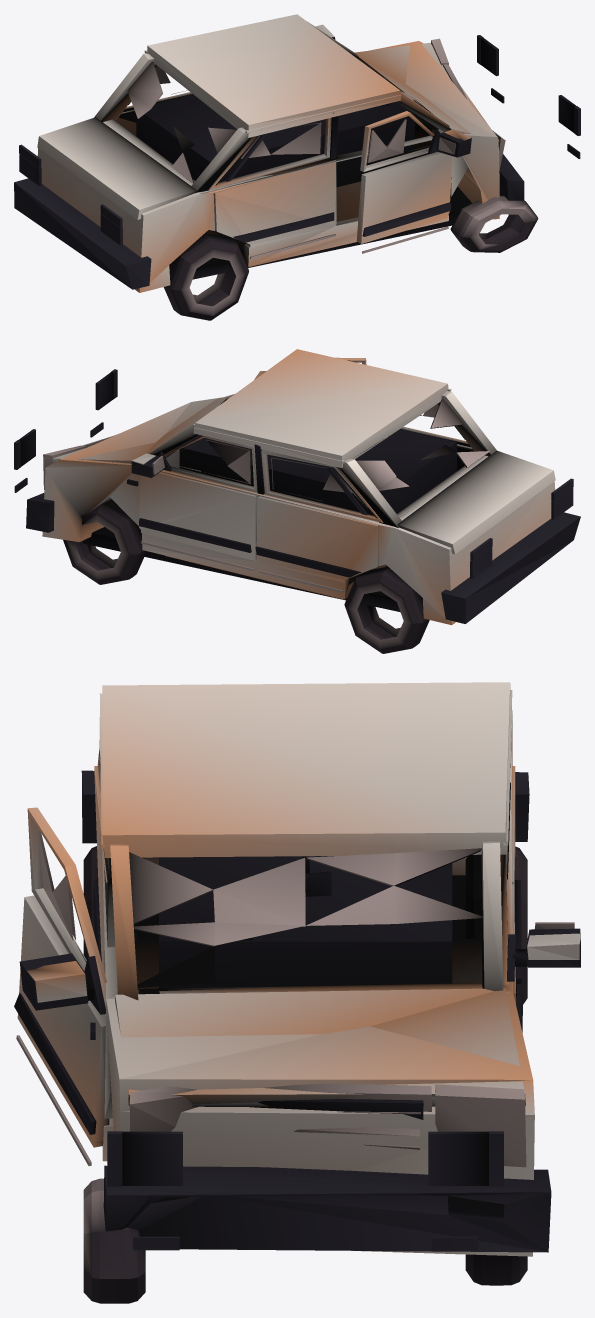
The model's file is model.wrecked.lod2.glb.
The picture shows the model from 3 angles, top to bottom: view 1: azimuth 30°, elevation 25°; view 2: azimuth 150°, elevation 25°; view 3: azimuth 270°, elevation 25°; orthographic projection. The views are drawn at different scales.
Parts seen in each view (by area): view 1: body_pal_picketWhite, body_pal_uiDark, body_pal_sidewalk, wheelRL_pal_sidewalk, wheelFL_pal_sidewalk; view 2: body_pal_picketWhite, body_pal_uiDark, body_pal_sidewalk, wheelRR_pal_sidewalk, wheelFR_pal_sidewalk; view 3: body_pal_picketWhite, body_pal_uiDark, body_pal_sidewalk, wheelFL_pal_sidewalk, wheelRR_pal_sidewalk, wheelFR_pal_sidewalk, wheelRL_pal_sidewalk.
Boxes of the visible parts, box(x1,y1,x2,y2) form: body_pal_picketWhite: box(37, 14, 499, 292); body_pal_uiDark: box(14, 35, 580, 289); body_pal_sidewalk: box(127, 38, 505, 259); wheelRL_pal_sidewalk: box(163, 233, 248, 320); wheelFL_pal_sidewalk: box(450, 195, 538, 252); body_pal_picketWhite: box(42, 349, 555, 625); body_pal_uiDark: box(14, 369, 580, 623); body_pal_sidewalk: box(43, 394, 489, 592); wheelRR_pal_sidewalk: box(344, 566, 429, 653); wheelFR_pal_sidewalk: box(63, 499, 146, 584); body_pal_picketWhite: box(17, 682, 580, 1256); body_pal_uiDark: box(14, 763, 580, 1252); body_pal_sidewalk: box(16, 827, 574, 1167); wheelFL_pal_sidewalk: box(83, 1178, 145, 1303); wheelRR_pal_sidewalk: box(465, 846, 527, 1004); wheelFR_pal_sidewalk: box(465, 1254, 527, 1285); wheelRL_pal_sidewalk: box(83, 846, 145, 959).
Size of the model in its own units: 4.61 by 1.79 by 2.47.
